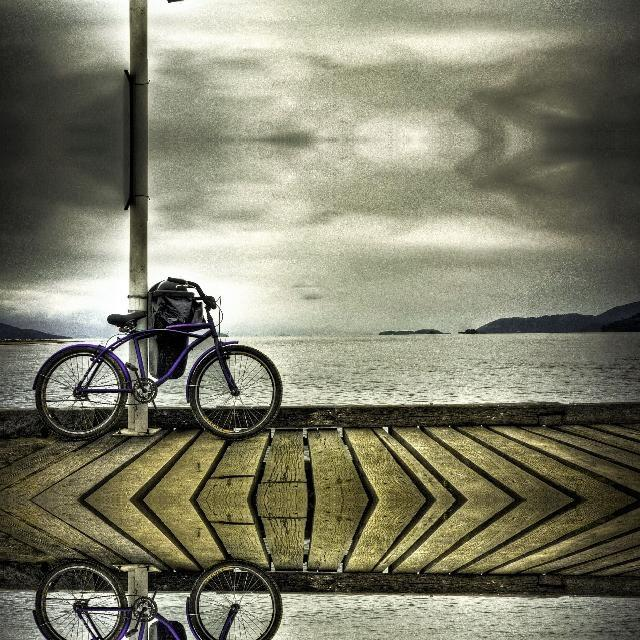obstacle: (13, 262, 305, 464), (13, 536, 305, 640), (13, 0, 305, 18)
